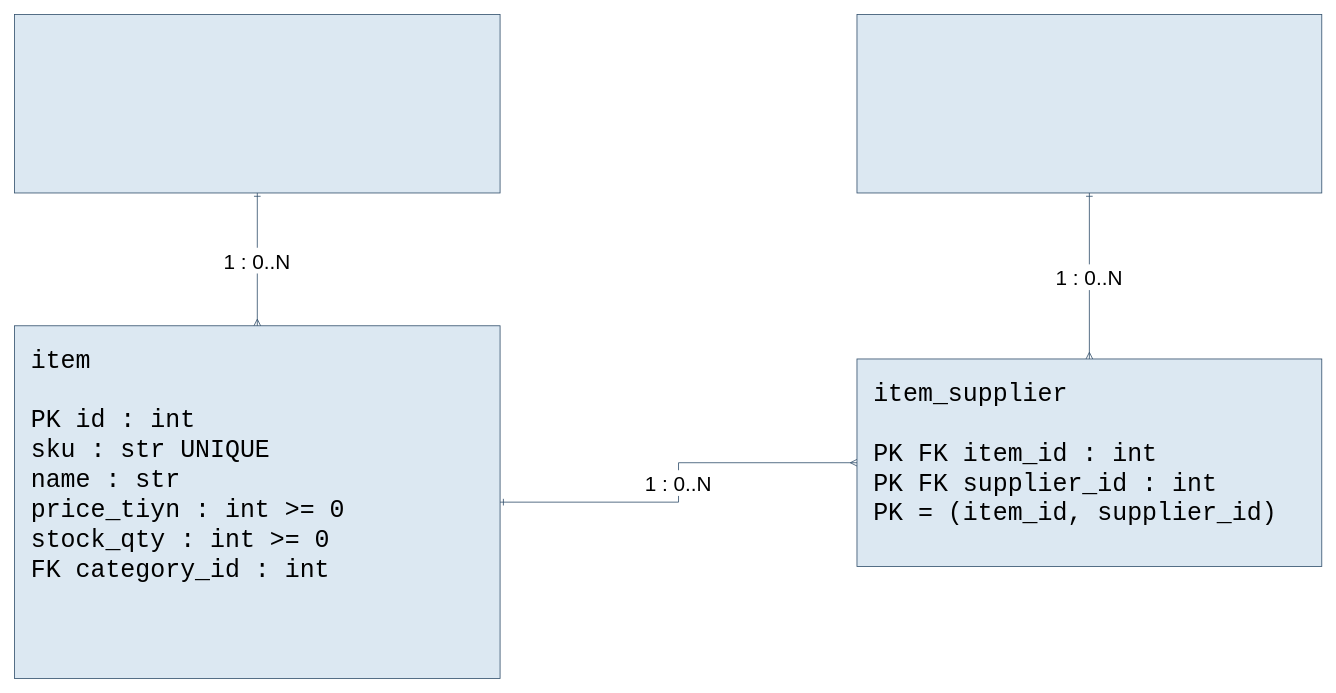
The diagram is 1336 pixels wide and 693 high, and some of its shapes have lost their labels. Each missing label, with the centre of its shape:
"category PK id : int name : str UNIQUE description : str" belongs at (x=257, y=103).
"supplier PK id : int name : str UNIQUE phone : str" belongs at (x=1089, y=103).
